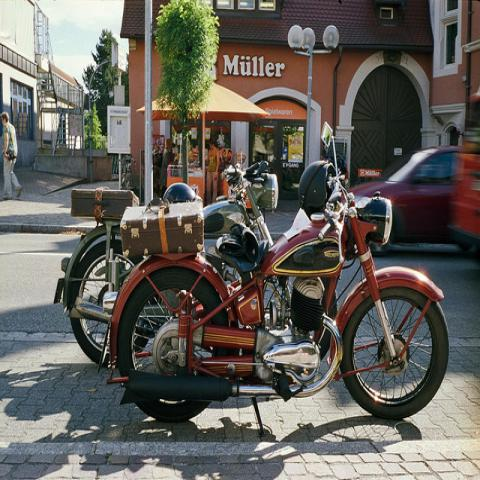car: (348, 144, 458, 256), (447, 128, 479, 253)
motorcycle: (107, 120, 451, 441), (51, 160, 281, 369)
